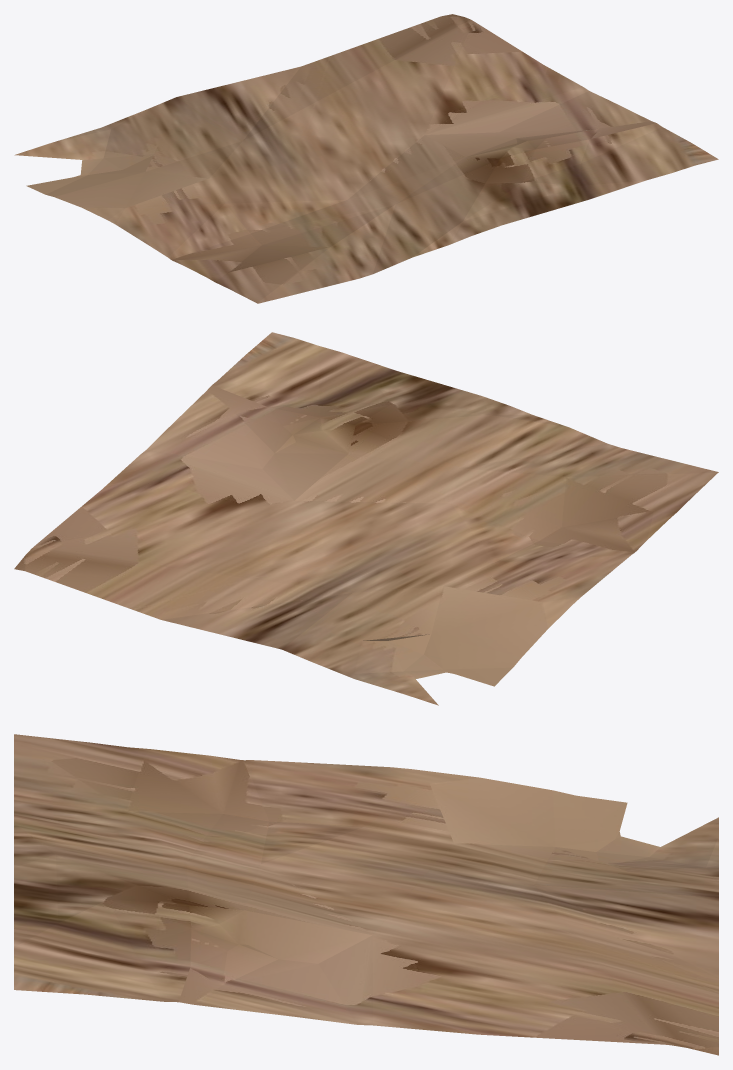
3 renders of one model, top to bottom at view 1: azimuth 30°, elevation 25°; view 2: azimuth 150°, elevation 25°; view 3: azimuth 270°, elevation 25°, orthographic. The views are drawn at different scales.
Size of the model in its own units: 1.04 by 0.1808 by 1.04.
Materials: 3 (3 with a texture image).
